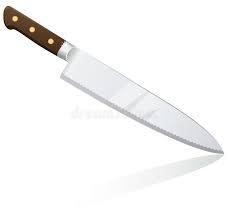Knife: (2, 5, 223, 154)
